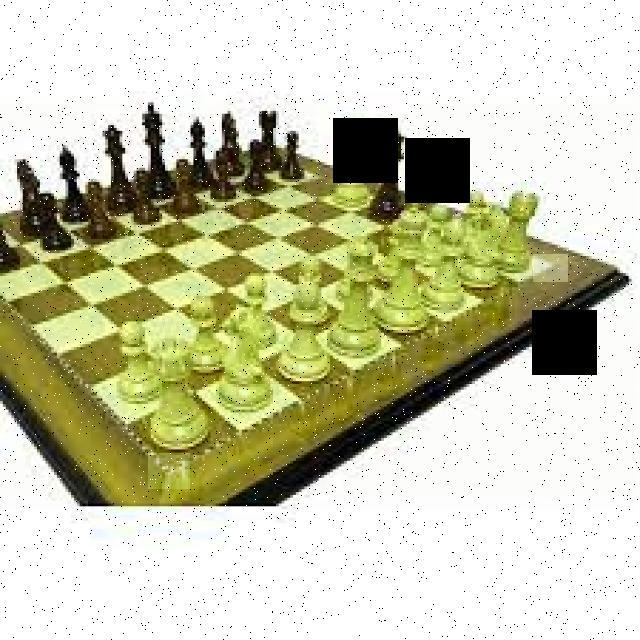chess-table-corners: (148, 453, 190, 489), (533, 254, 568, 282)
